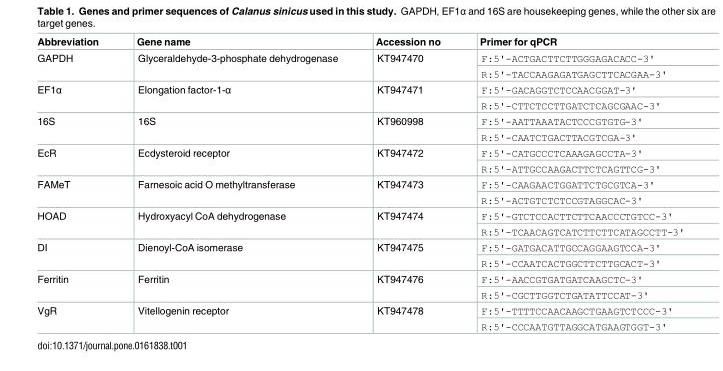table: (36, 36, 683, 332)
table column: (116, 36, 356, 332), (459, 36, 683, 332), (356, 36, 459, 332), (36, 36, 116, 332)
table column header: (36, 36, 683, 49)
table row: (36, 49, 683, 66), (36, 81, 683, 97), (36, 97, 683, 113), (36, 113, 683, 129), (36, 129, 683, 145), (36, 160, 683, 176), (36, 176, 683, 192), (36, 192, 683, 208), (36, 223, 683, 239), (36, 239, 683, 255), (36, 255, 683, 271), (36, 271, 683, 287), (36, 302, 683, 318), (36, 66, 683, 81), (36, 145, 683, 160), (36, 208, 683, 223), (36, 287, 683, 302), (36, 318, 683, 332), (36, 36, 683, 49)
table spanning cell: (116, 49, 356, 81), (116, 81, 356, 113), (116, 113, 356, 145), (116, 176, 356, 208), (116, 239, 356, 271), (116, 145, 356, 176), (116, 208, 356, 239), (116, 271, 356, 302), (116, 302, 356, 332), (356, 49, 459, 81), (356, 81, 459, 113), (356, 113, 459, 145), (356, 176, 459, 208), (356, 239, 459, 271), (356, 145, 459, 176), (356, 208, 459, 239), (356, 271, 459, 302), (356, 302, 459, 332), (36, 49, 116, 81), (36, 81, 116, 113), (36, 113, 116, 145), (36, 176, 116, 208), (36, 239, 116, 271), (36, 145, 116, 176), (36, 208, 116, 239), (36, 271, 116, 302), (36, 302, 116, 332)
